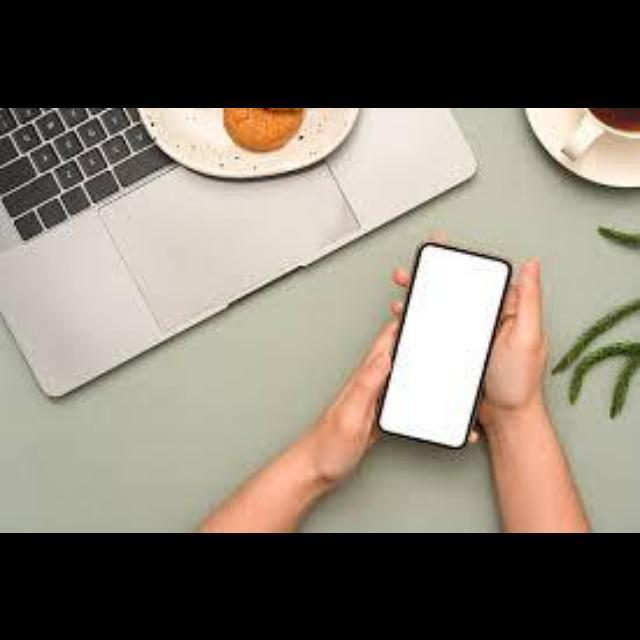phone: (387, 228, 522, 474)
